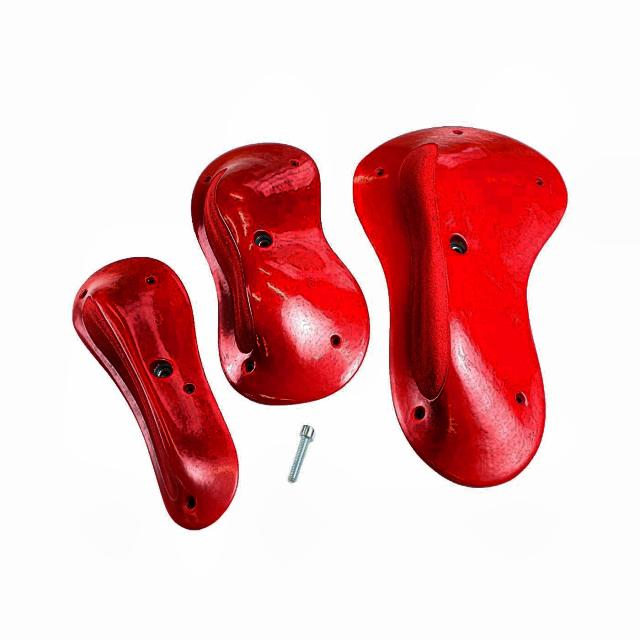Hold: (354, 126, 569, 487), (69, 255, 239, 534), (193, 143, 370, 404)
